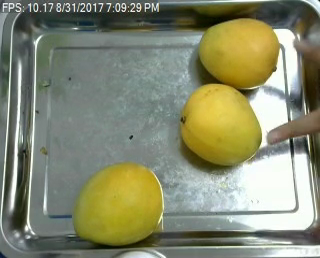Mango: (71, 162, 162, 246), (181, 83, 262, 164), (198, 17, 280, 88)
